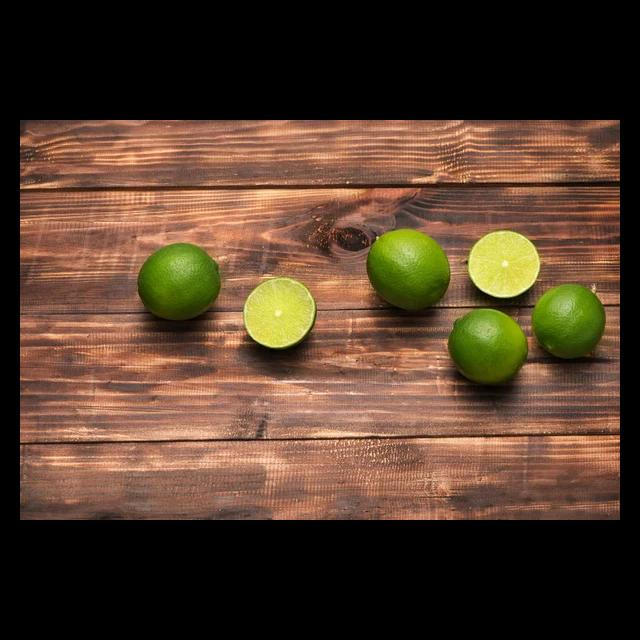lime: (361, 221, 456, 316), (131, 236, 225, 330), (439, 304, 535, 392), (522, 276, 610, 366)
